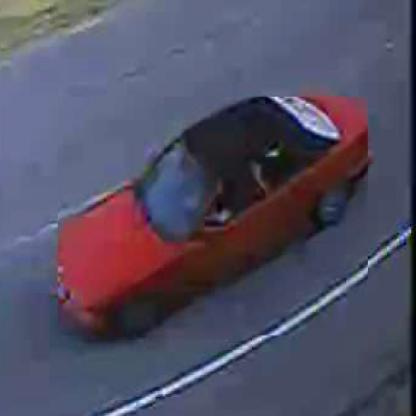car: (58, 98, 369, 338)
